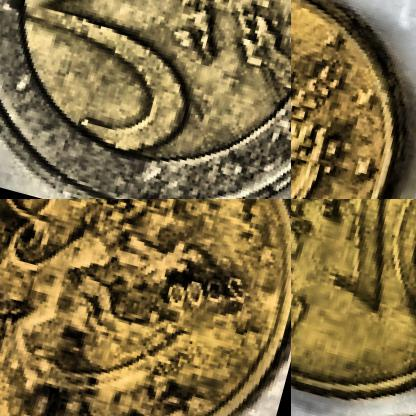coin: (0, 199, 290, 415), (0, 0, 290, 198), (291, 199, 415, 415), (291, 0, 415, 198)
